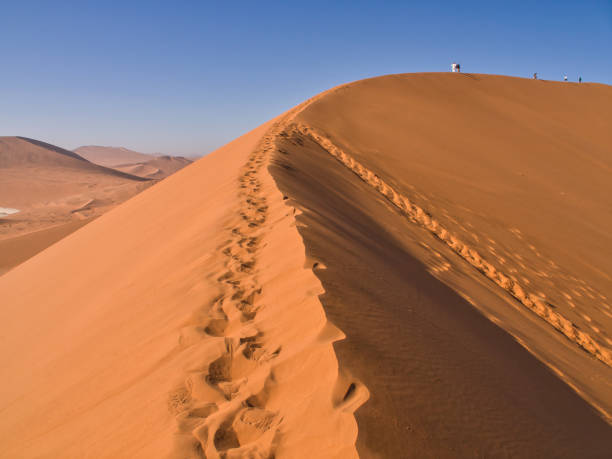human_footprint: (171, 140, 279, 457)
